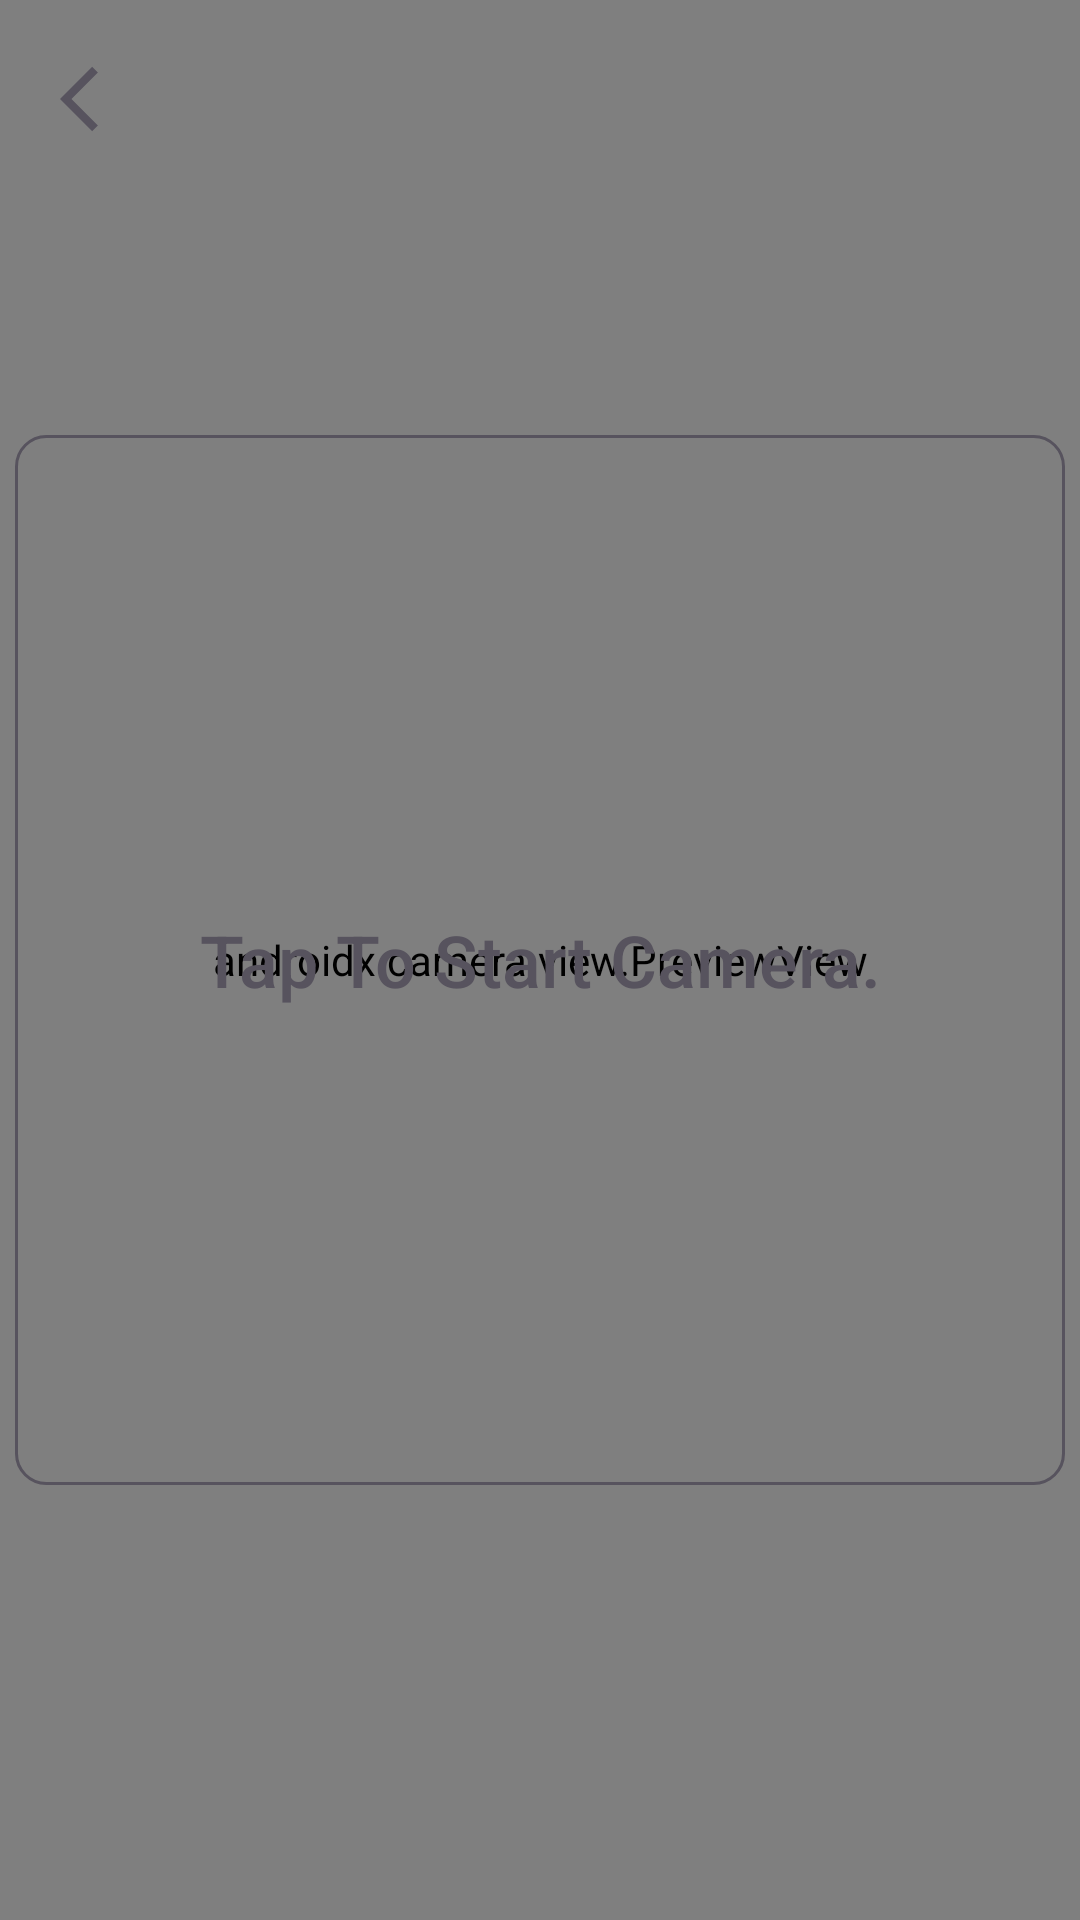

Named icons in this screenshot (1080x1920) and their bounding boxes, (left=x1, top=y1, right=x2, bottom=y2):
arrow back: (left=61, top=67, right=98, bottom=131)
